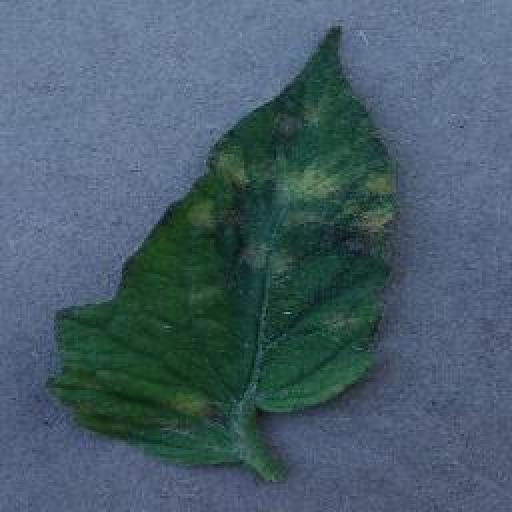Leaf Mold: (54, 20, 400, 469)
